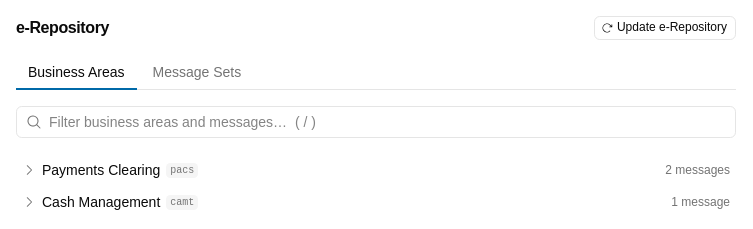
Test: ERepositoryBrowser — Message Sets tab › lists sets when the tab is selected
This screenshot has width=753, height=229.
Check: the text "Payments Clearing" is shown, box [42,160,160,180]
Step 1. Click the tab "Message Sets" → (197, 73), box [140,56,253,90]
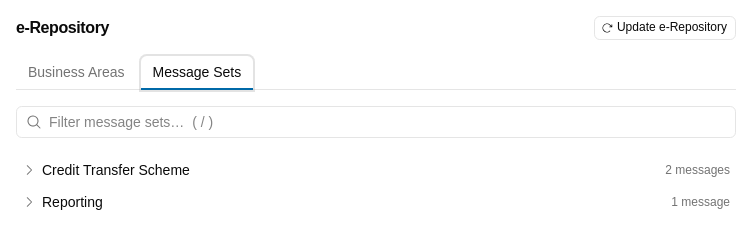
Check: the text "Credit Transfer Scheme" is shown, box [42,160,190,180]
Check: the text "Reporting" is shown, box [42,192,103,212]
Check: the text "Payments Clearing" is gone
